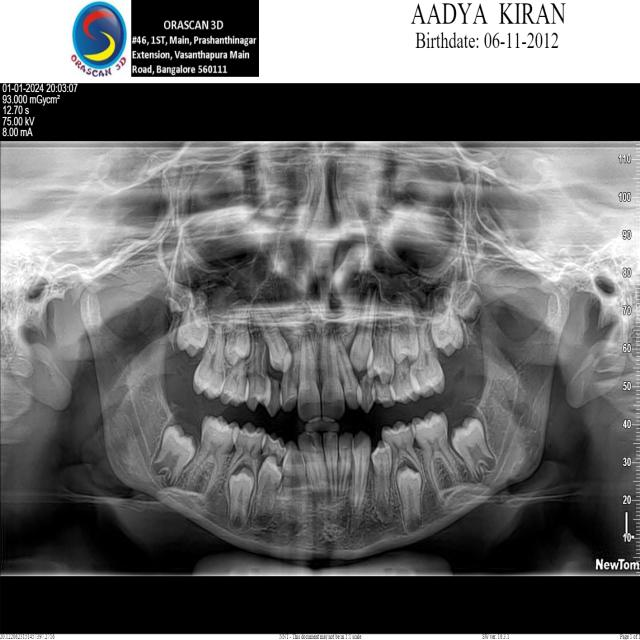Premolars: (369, 437, 394, 520)
